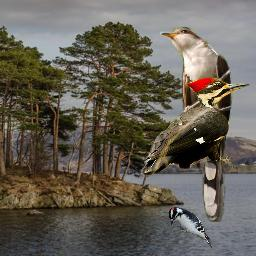Cuckoo: (160, 27, 233, 222)
Woodpecker: (141, 78, 252, 175), (168, 206, 214, 249)
